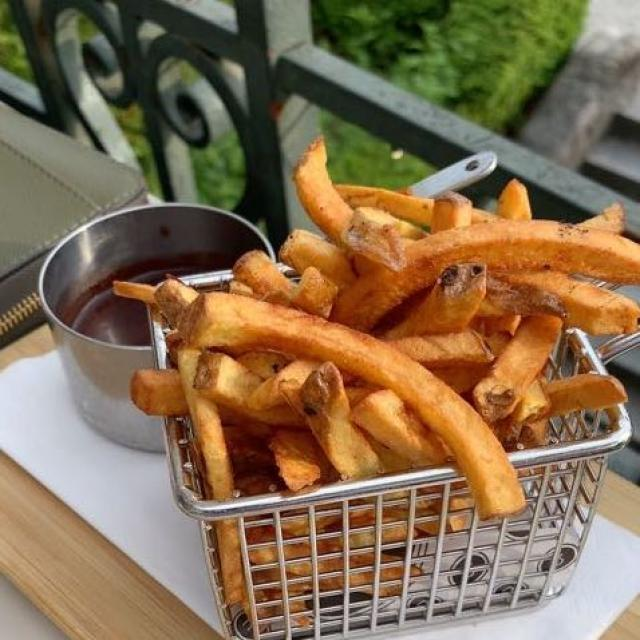chips-french-fries: (119, 168, 637, 622)
